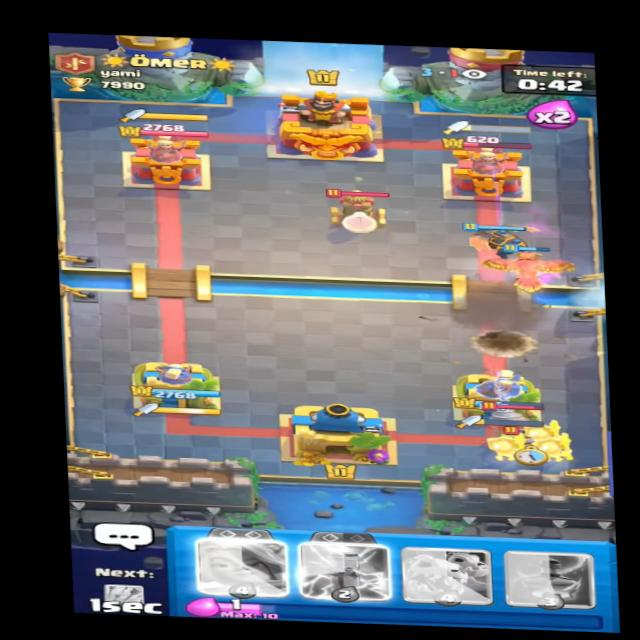goblin-drill: (480, 400, 550, 445)
tesla: (315, 186, 397, 232)
